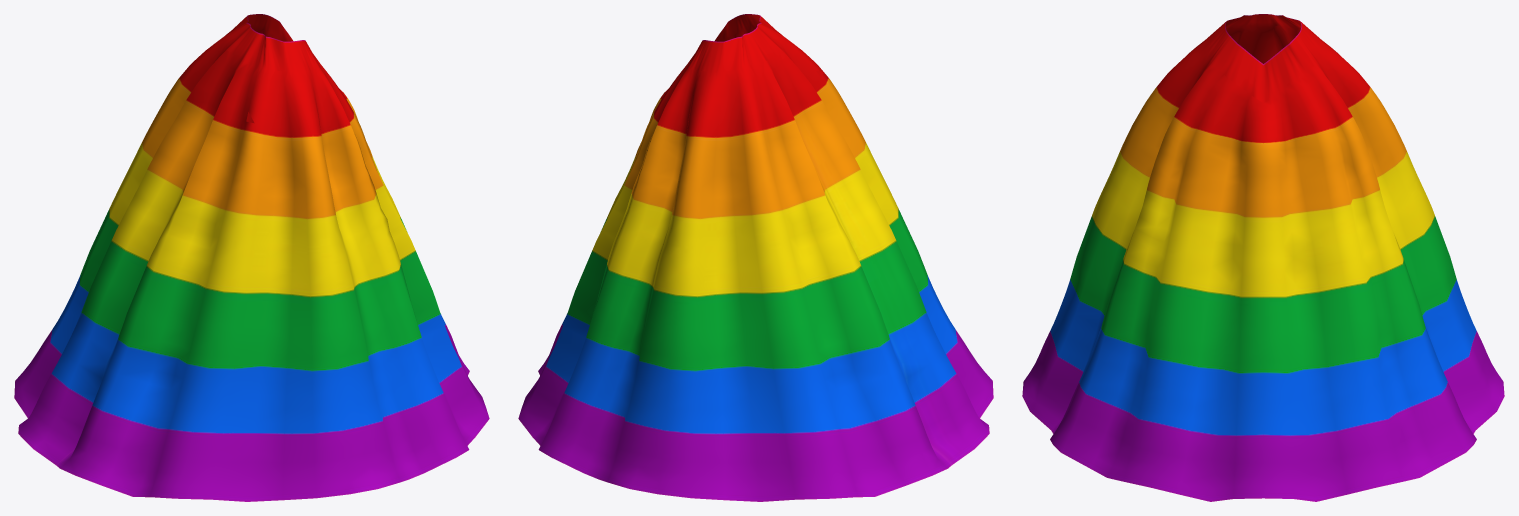
Rendered from Skirt_Long.FBX.
The picture shows the model from 3 angles, left to right: view 1: azimuth 30°, elevation 25°; view 2: azimuth 150°, elevation 25°; view 3: azimuth 270°, elevation 25°; orthographic projection.
Visible parts, largest first — view 1: Skirt_Long; view 2: Skirt_Long; view 3: Skirt_Long.
Part boxes in pixels (x1,y1,x2,y2): Skirt_Long: (14, 14, 489, 501); Skirt_Long: (518, 14, 993, 501); Skirt_Long: (1022, 14, 1504, 501).
Bounding box in the file's own units: 0.6354 × 0.5844 × 0.6386.
